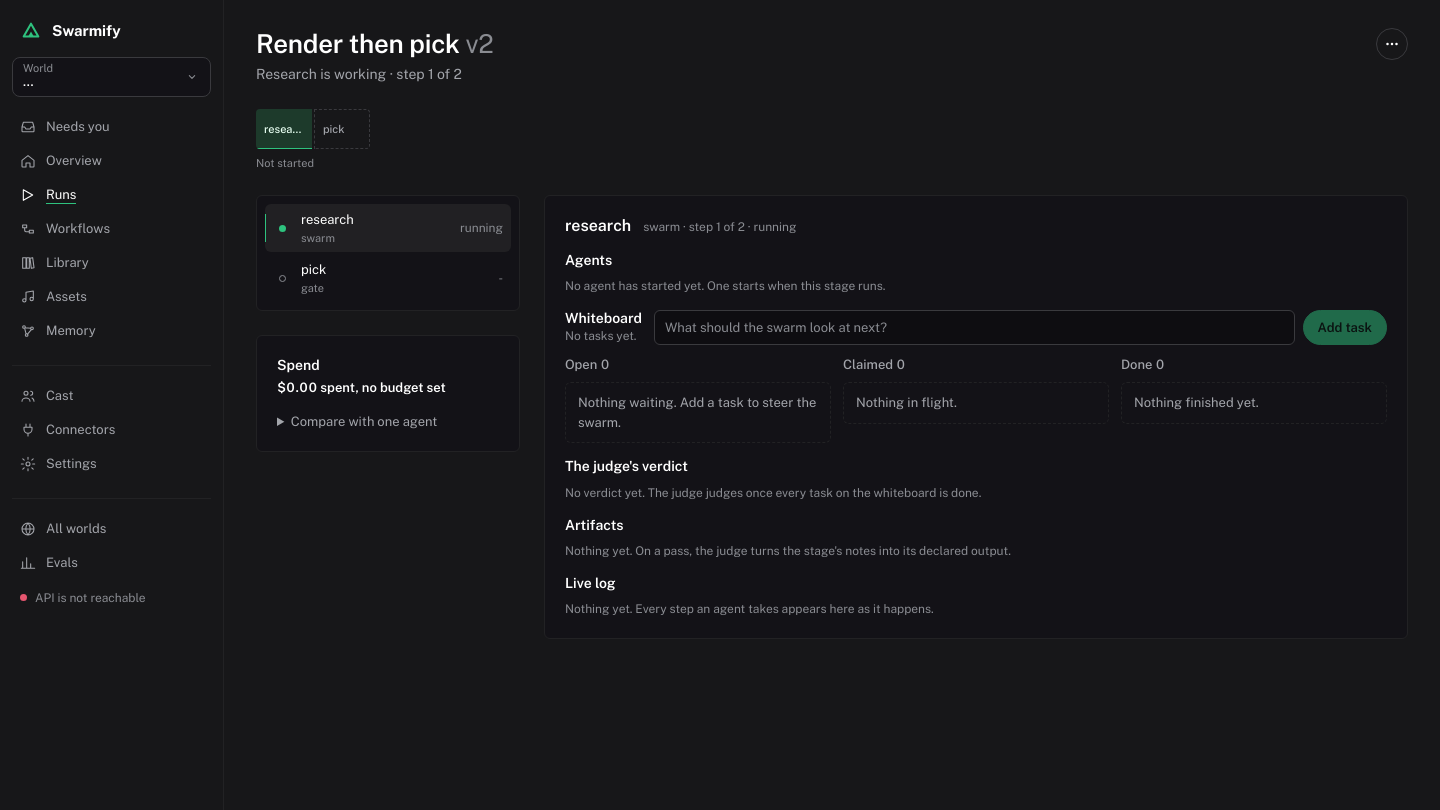
Test: a refused task shows why
Type "Late idea" into the field named "New task" at (974, 327), box left=654, top=310, right=1295, bottom=345
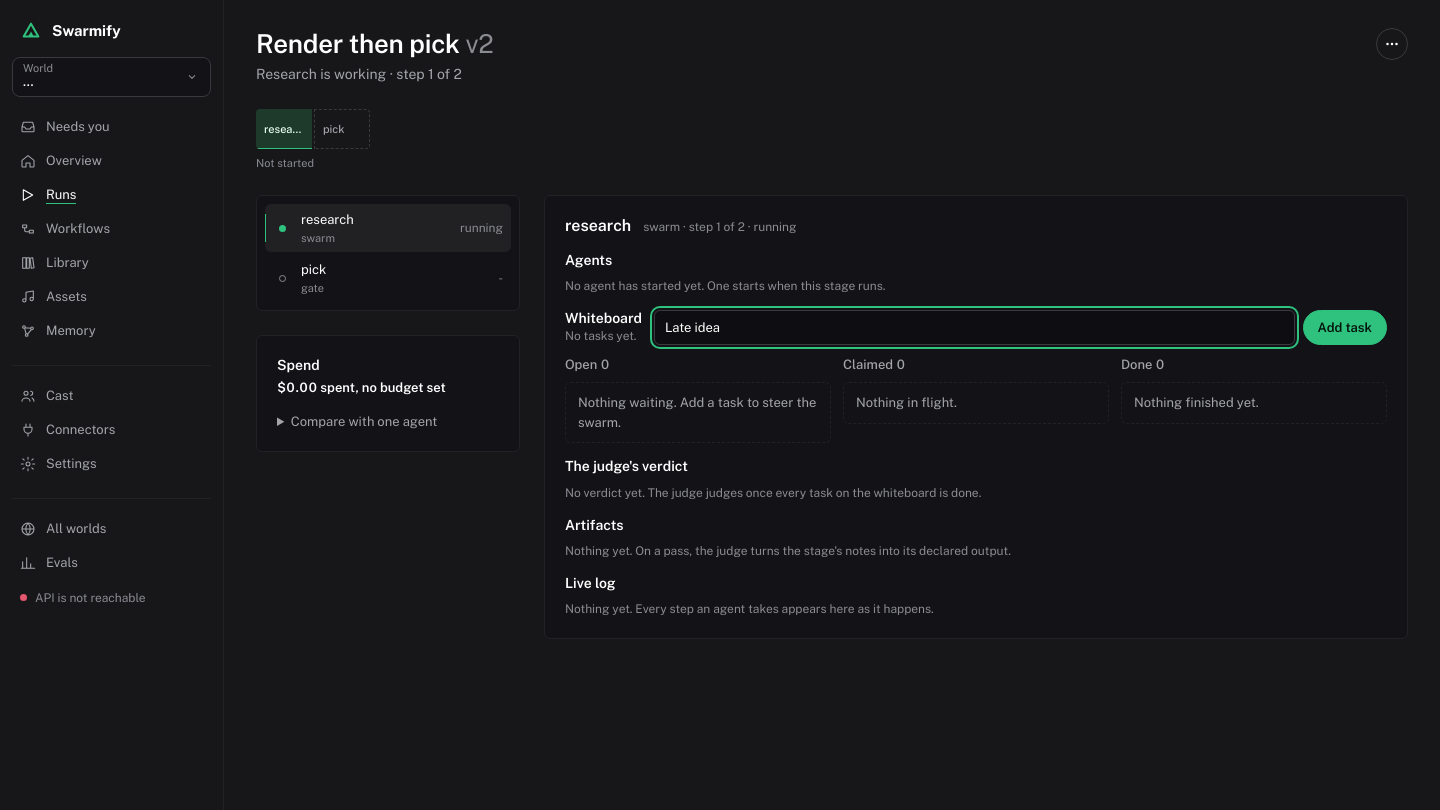
Click the button "Add task" at (1345, 327), box left=1302, top=310, right=1387, bottom=345
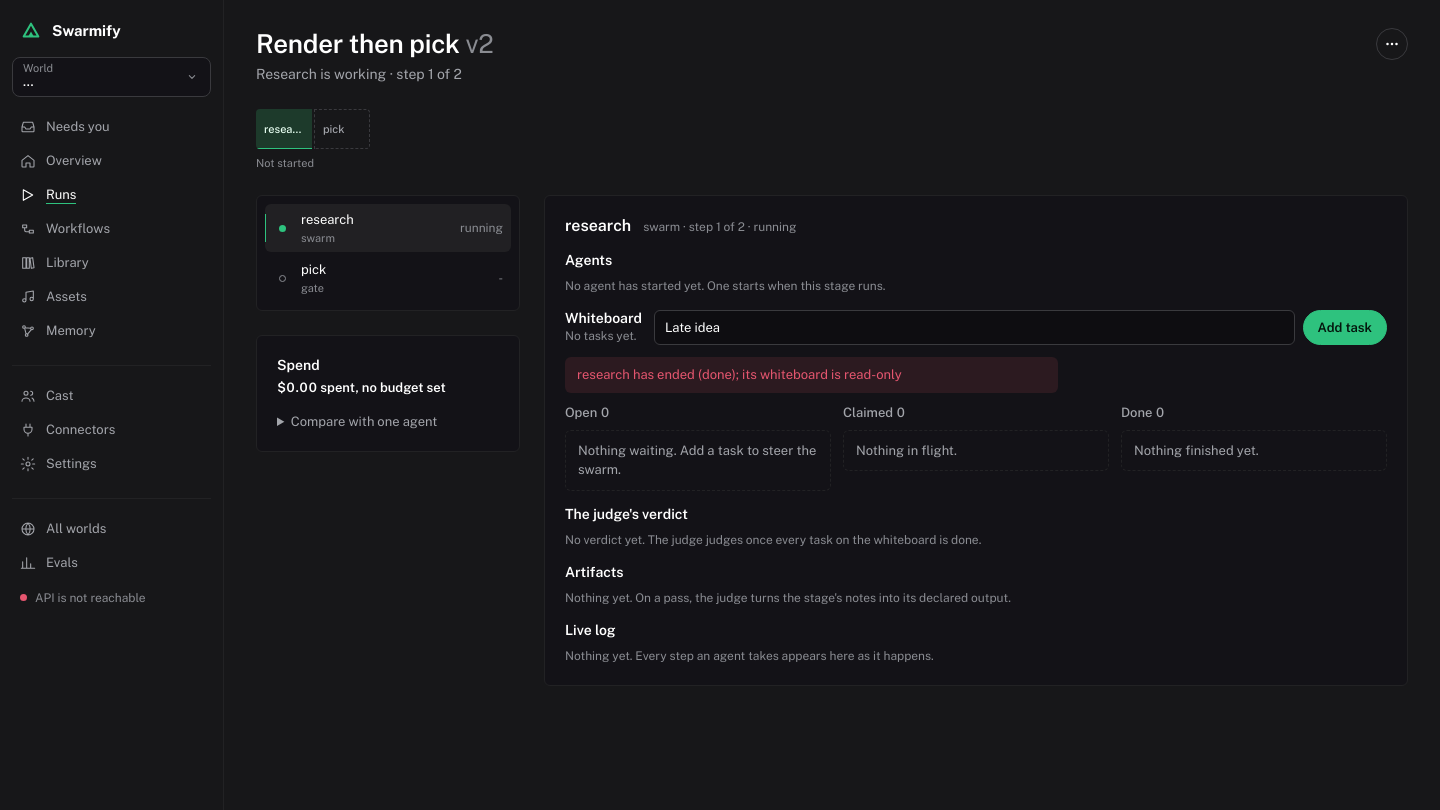
Expected: the message "research has ended (done); its whiteboard is read-only" is shown, left=565, top=358, right=1058, bottom=393
